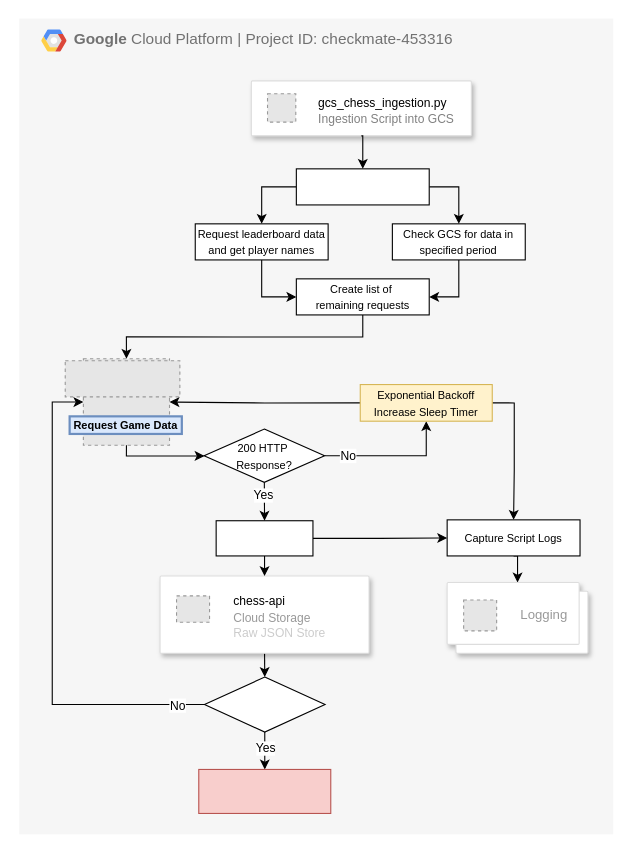
The diagram is 631 pixels wide and 854 high, and some of its shapes have lost their labels. Grey dashed boxes stand in for pictures. The centre of each missing label's shape, as x and y in pixels:
All Requests Saved?: the point at 264,704
Select date period of requests: the point at 362,186
Store Chess.com JSON responses: the point at 264,538
Terminate VM: the point at 264,790
